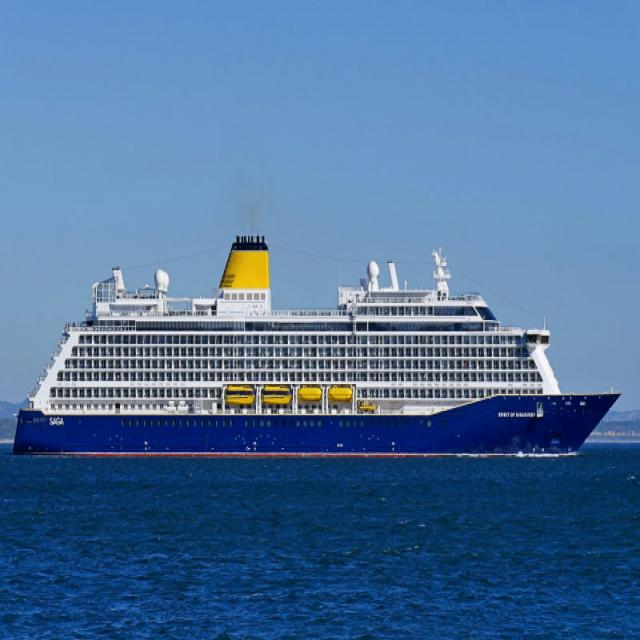cruises: (17, 227, 624, 465)
